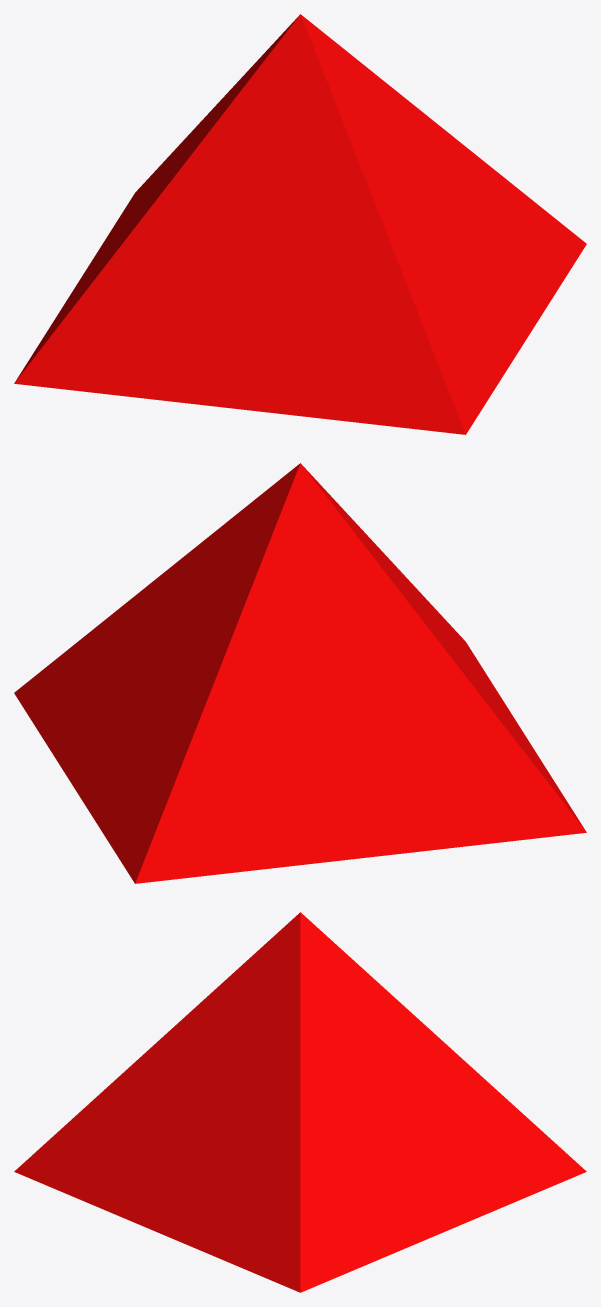
The model's file is Pyramid_Small_Red_v1.glb.
3 views of the same model, one above another, from view 1: azimuth 30°, elevation 25°; view 2: azimuth 150°, elevation 25°; view 3: azimuth 270°, elevation 25° (orthographic). The views are drawn at different scales.
Visible parts, largest first — view 1: Cone_Small; view 2: Cone_Small; view 3: Cone_Small.
Boxes of the visible parts, box(x1,y1,x2,y2) form: Cone_Small: box(14, 14, 586, 434); Cone_Small: box(14, 463, 586, 883); Cone_Small: box(14, 912, 586, 1292).
Bounding box in the file's own units: 2 × 1 × 2.
